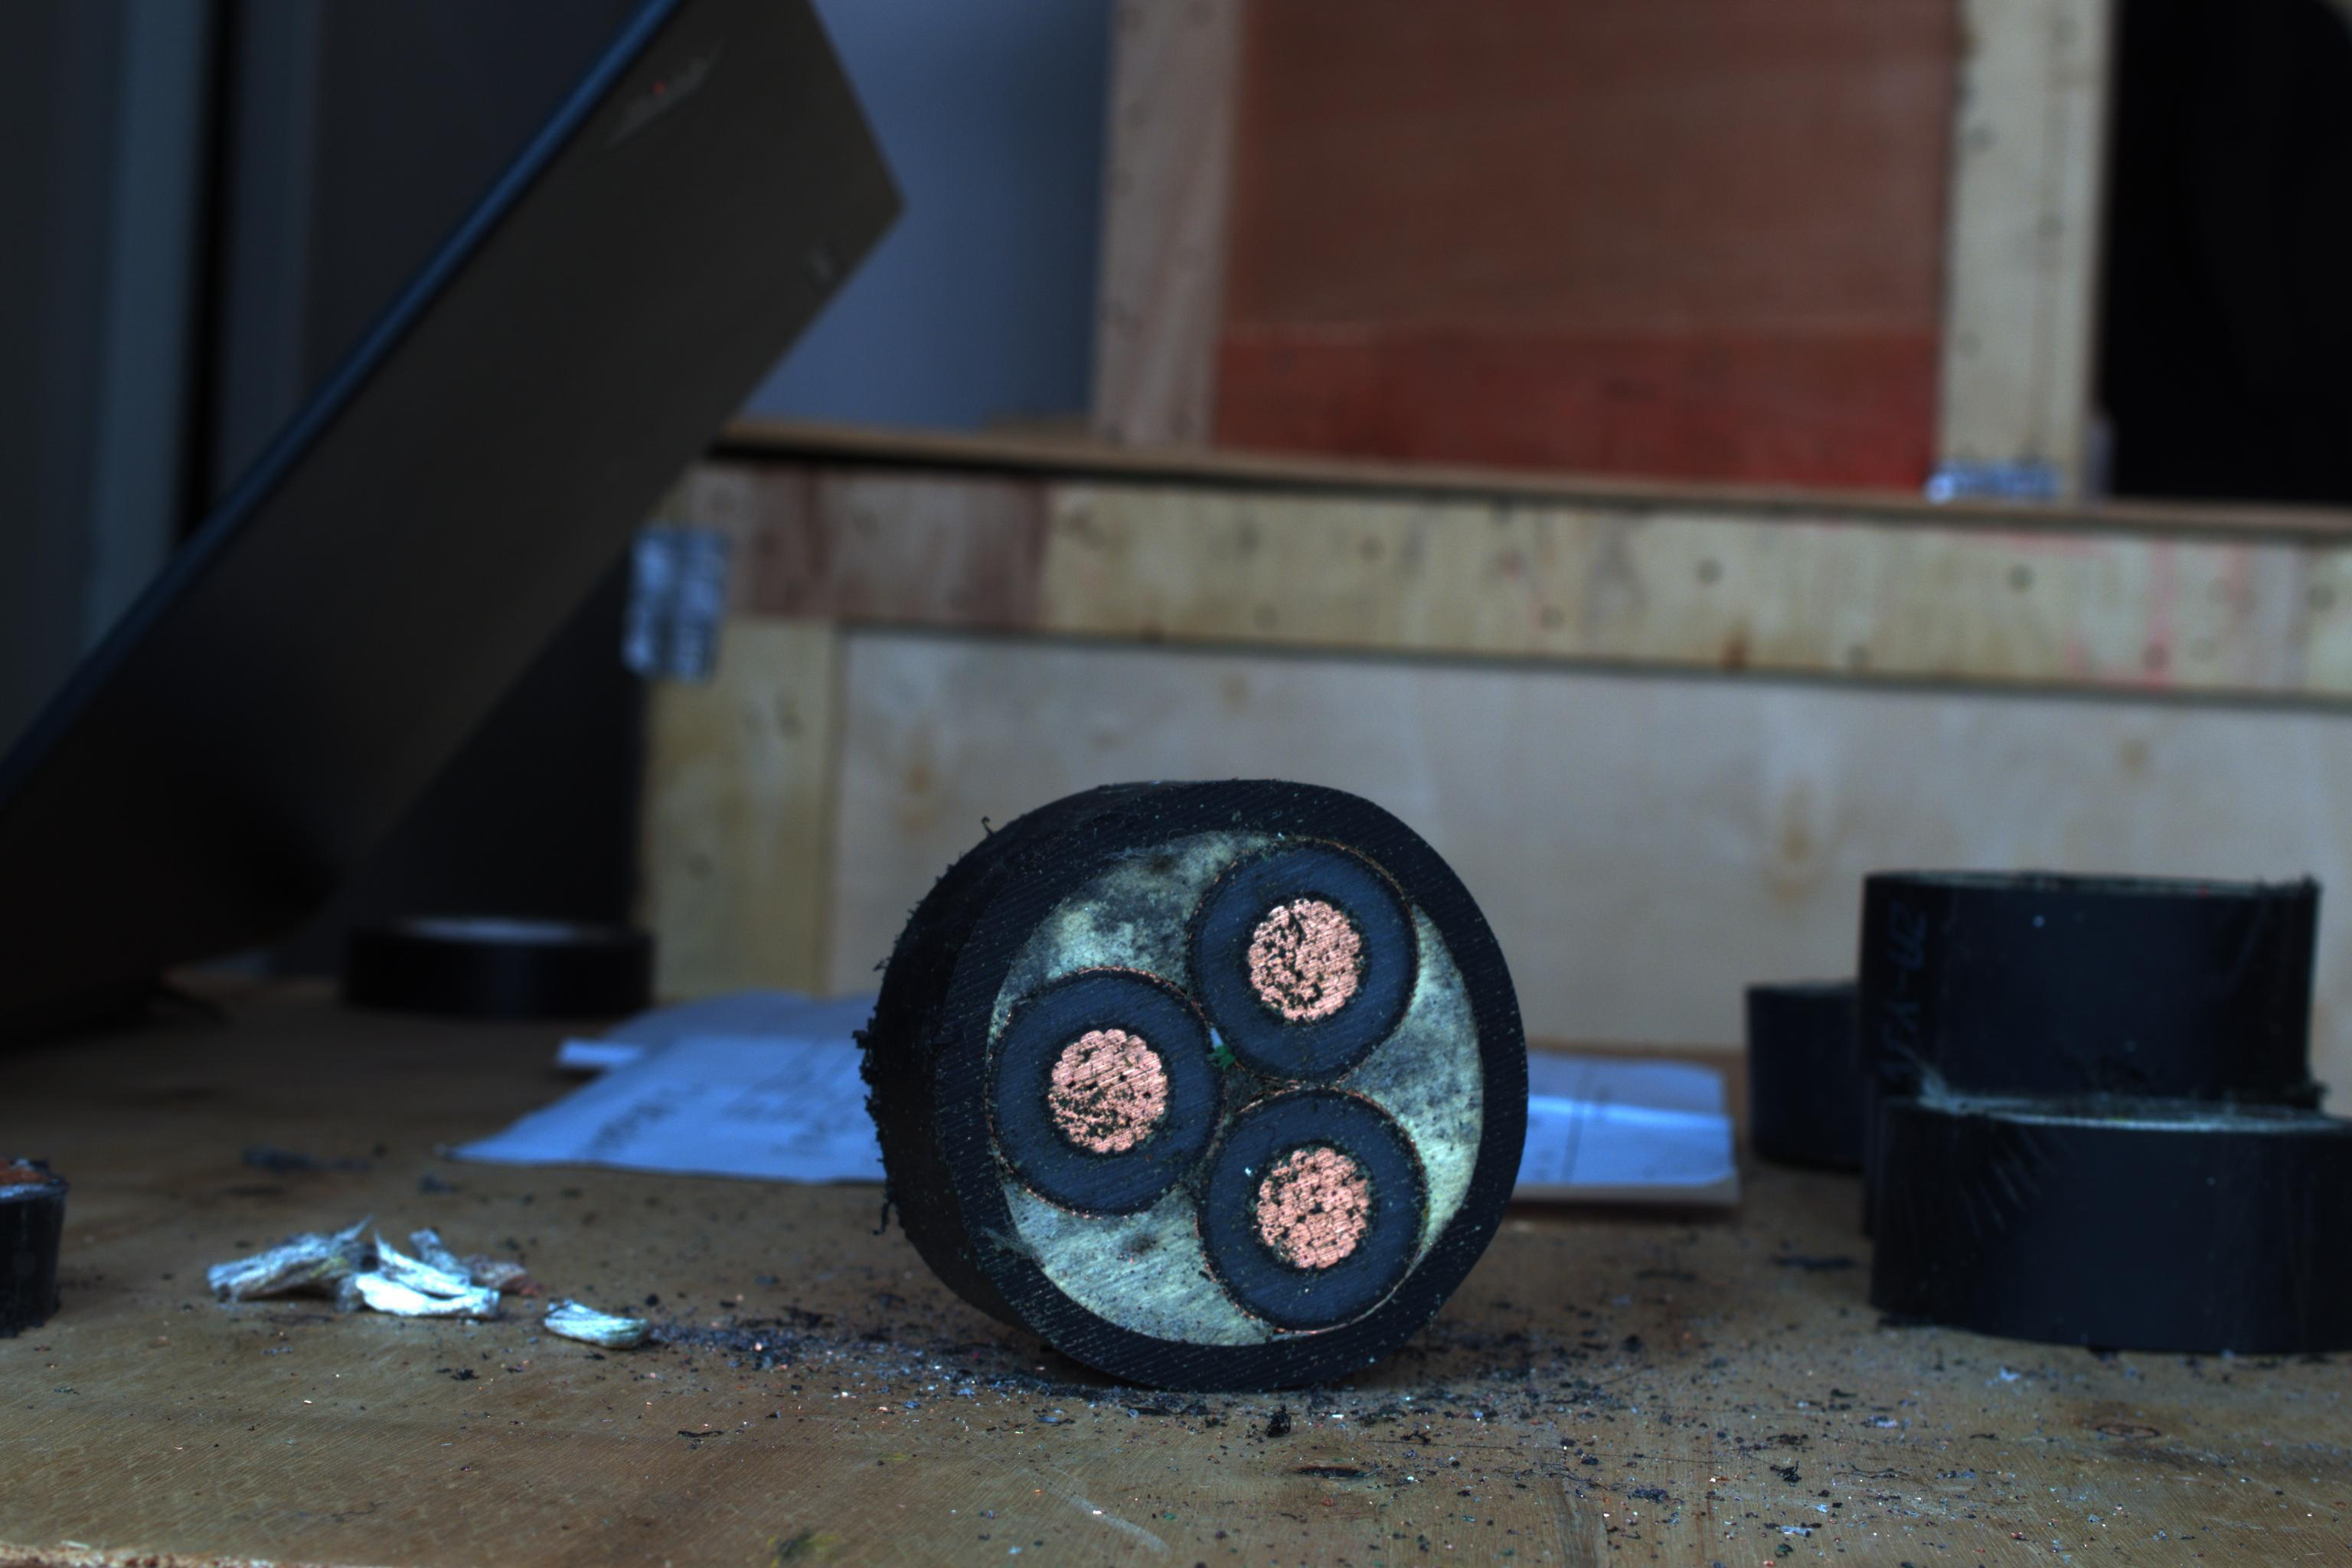ZA_YJV_8.7_10kV_3x120: (957, 796, 1531, 1365)
